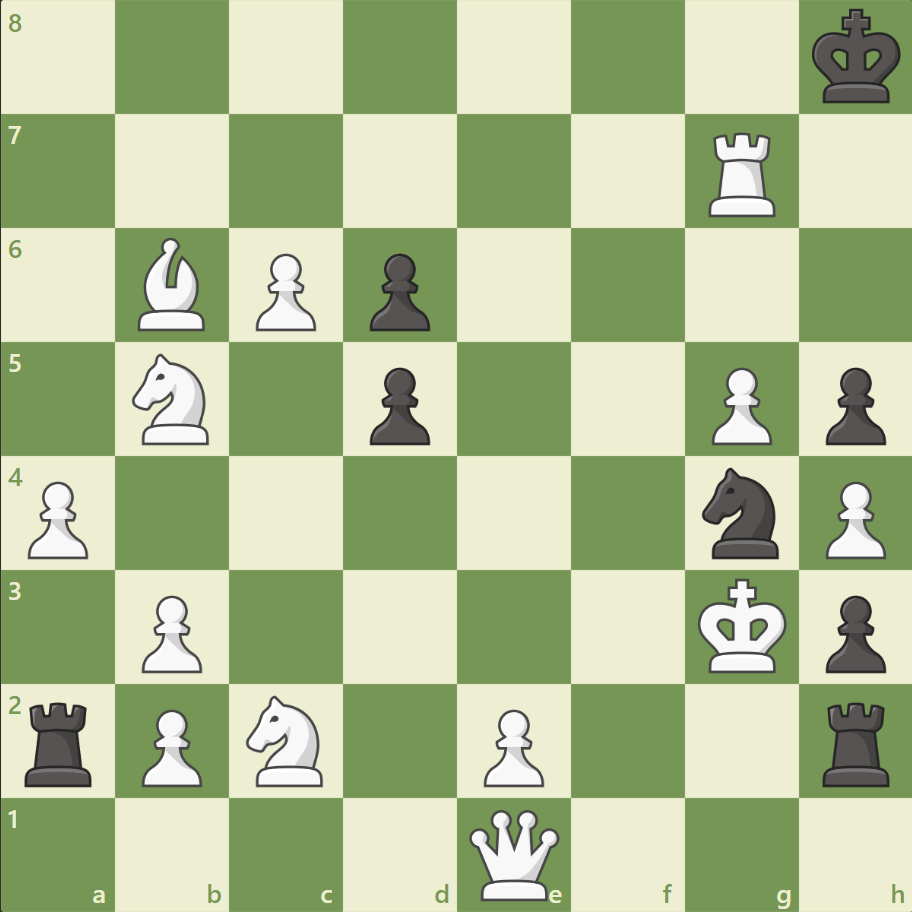B: (131, 233, 215, 336)
K: (692, 571, 792, 679)
N: (124, 348, 222, 450), (238, 688, 335, 791)
P: (247, 246, 322, 337), (701, 359, 776, 450), (20, 473, 95, 564), (133, 586, 208, 677), (133, 700, 208, 791), (474, 700, 549, 791), (815, 473, 889, 564)
Q: (464, 804, 563, 903)
R: (700, 125, 783, 222)
k: (806, 4, 906, 112)
n: (692, 461, 789, 564)
p: (361, 246, 435, 337), (361, 359, 435, 450), (815, 359, 889, 450), (815, 586, 889, 677)
r: (19, 693, 102, 790), (814, 693, 897, 790)
